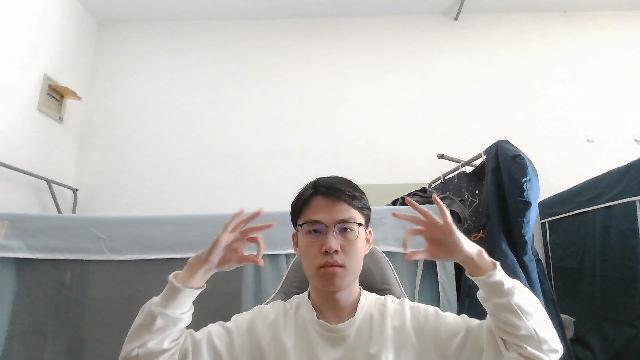ok: (184, 205, 278, 282), (387, 191, 481, 266)
